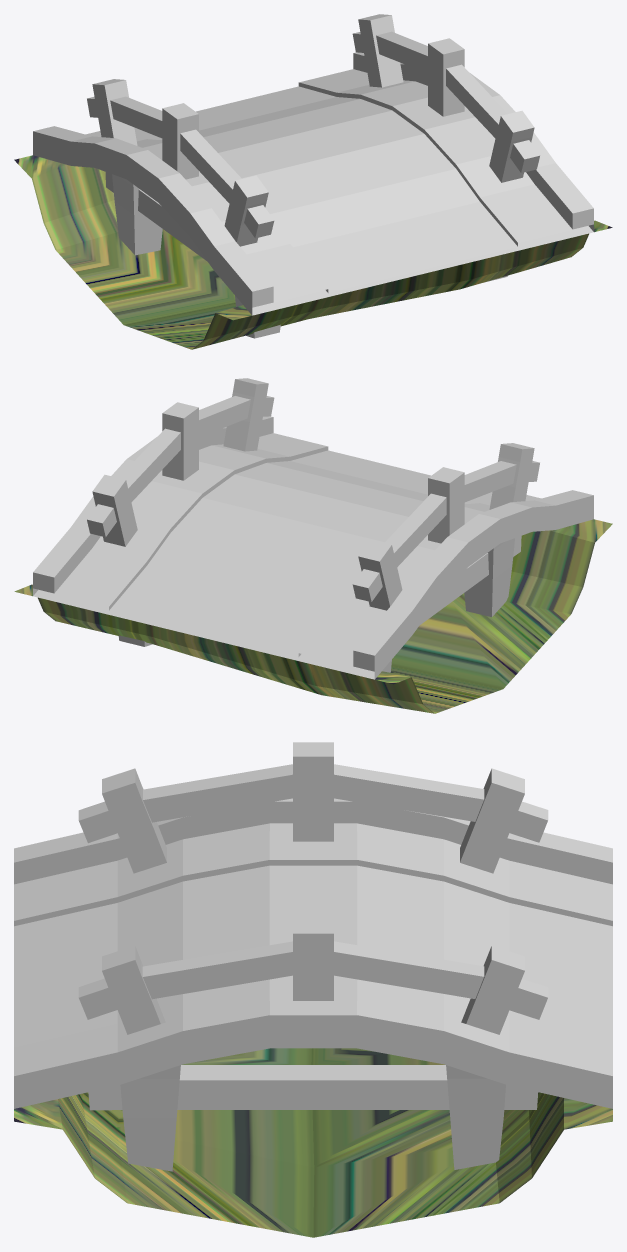
File: Mesh_BridgeTileMiddle.fbx
The picture shows the model from 3 angles, top to bottom: view 1: azimuth 30°, elevation 25°; view 2: azimuth 150°, elevation 25°; view 3: azimuth 270°, elevation 25°; orthographic projection. The views are drawn at different scales.
Visible parts, largest first — view 1: BridgeTileMiddle; view 2: BridgeTileMiddle; view 3: BridgeTileMiddle.
Part boxes in pixels (x1,y1,x2,y2): BridgeTileMiddle: [14, 14, 612, 349]; BridgeTileMiddle: [14, 378, 612, 713]; BridgeTileMiddle: [14, 742, 612, 1237].
Bounding box in the file's own units: 10000 × 5146 × 10000.
